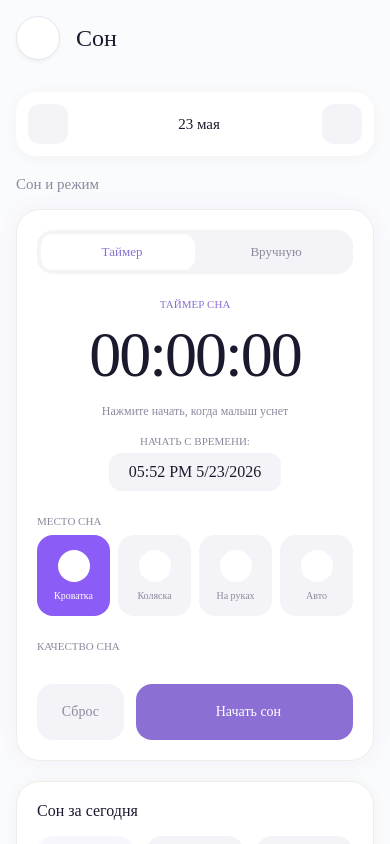
it: SleepScreen › renders timer mode by default and allows starting timer
Expected: the text "Таймер" is shown, [102,244,142,260]
Click the text "Начать сон". click: (248, 712)
box: [216,704,281,720]
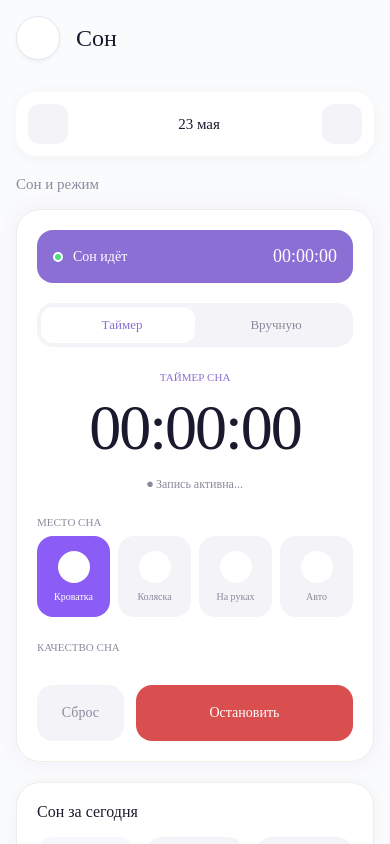
Expected: the text "Остановить" is shown, [210,705,279,721]
